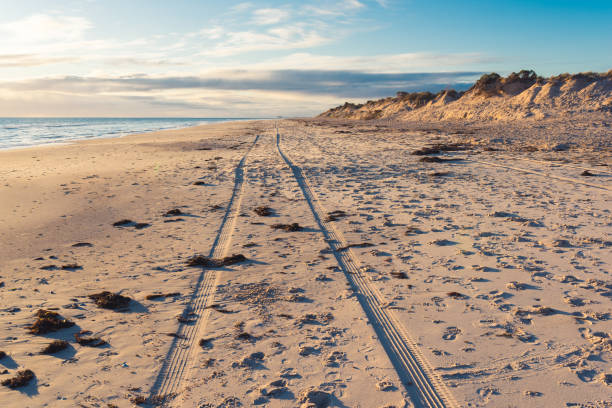vehicle_track: (276, 129, 456, 407), (149, 269, 219, 405), (461, 157, 611, 190), (465, 158, 611, 190)
